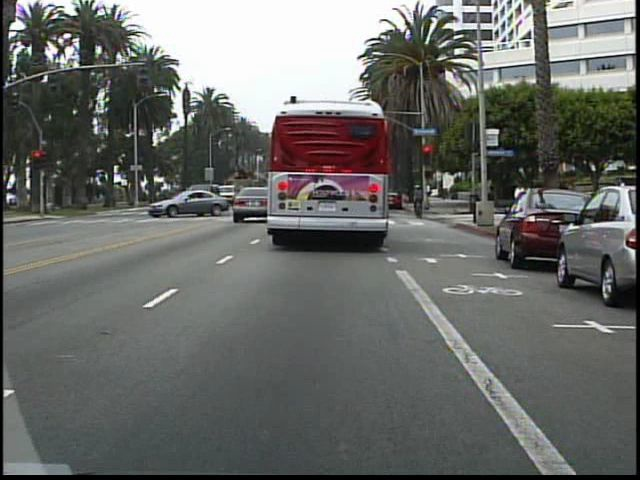person: (409, 182, 429, 217), (511, 181, 528, 197)
